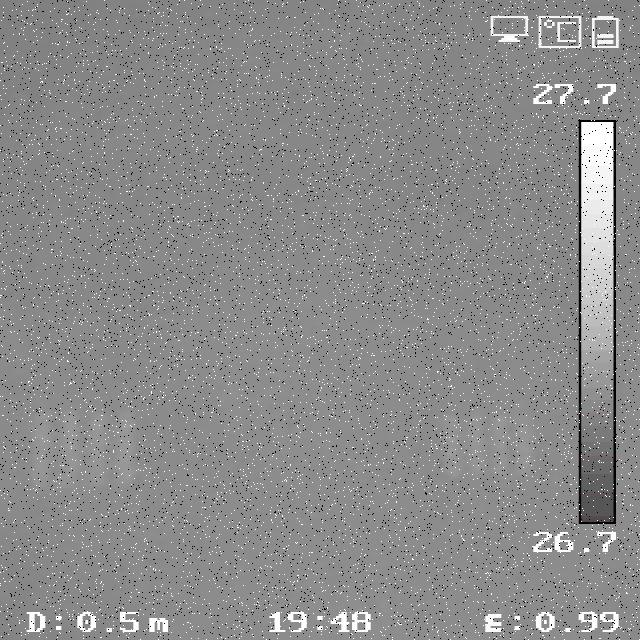threshold 4-bar target: (24, 406, 140, 489), (435, 414, 537, 484)
